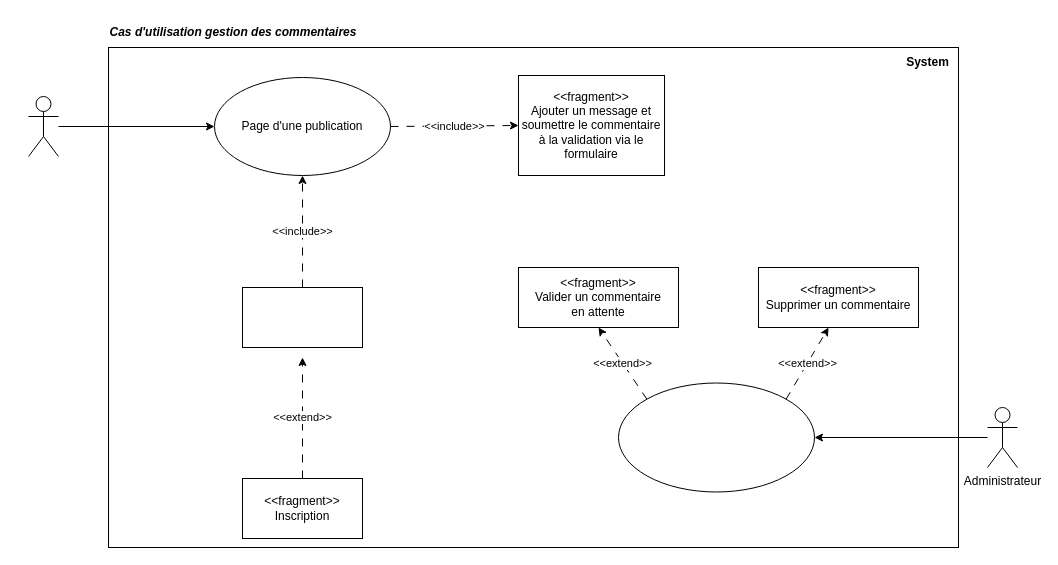
The diagram is 1058 pixels wide and 565 high, and some of its shapes have lost their labels. The centre of each missing label's shape, as x and y in pixels:
"<<fragment>> Authentification" goes at [302,317].
"Page Commentaires en attente de validation" goes at [716,437].
"Utilisateur" goes at [43,126].
